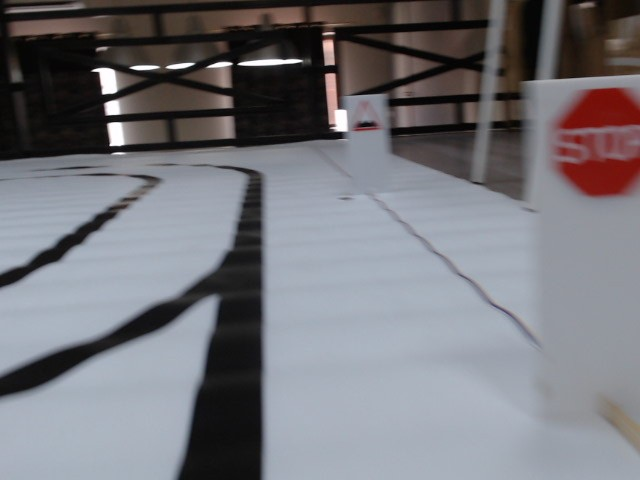Nerov: (348, 99, 384, 131)
Stop: (549, 86, 640, 196)
